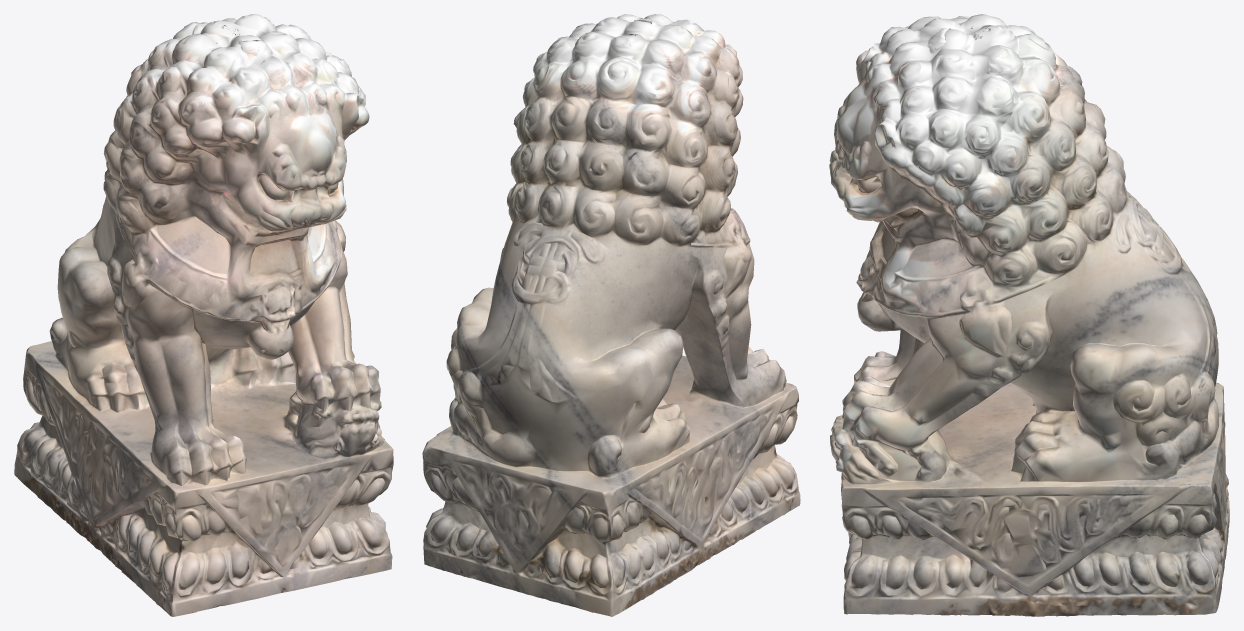
Rendered from lion.glb.
3 renders of one model, left to right at view 1: azimuth 30°, elevation 25°; view 2: azimuth 150°, elevation 25°; view 3: azimuth 270°, elevation 25°, orthographic. The views are drawn at different scales.
Bounding box in the file's own units: 559 × 1180 × 797.
Materials: 1 (1 with a texture image).
